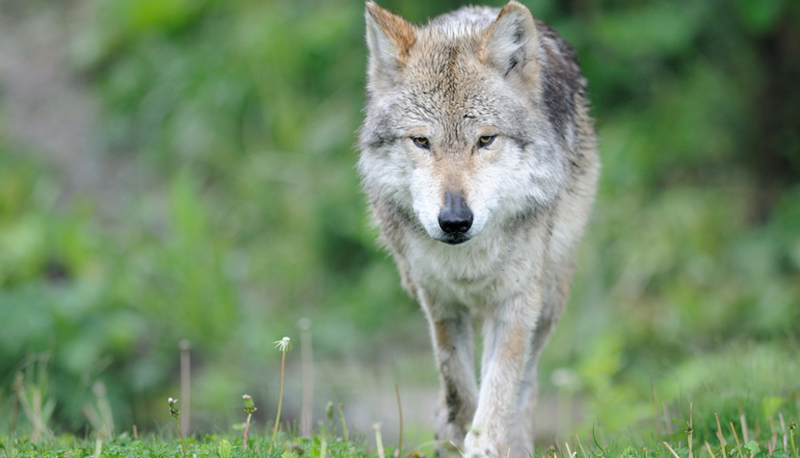Lobo: (339, 6, 605, 458)
